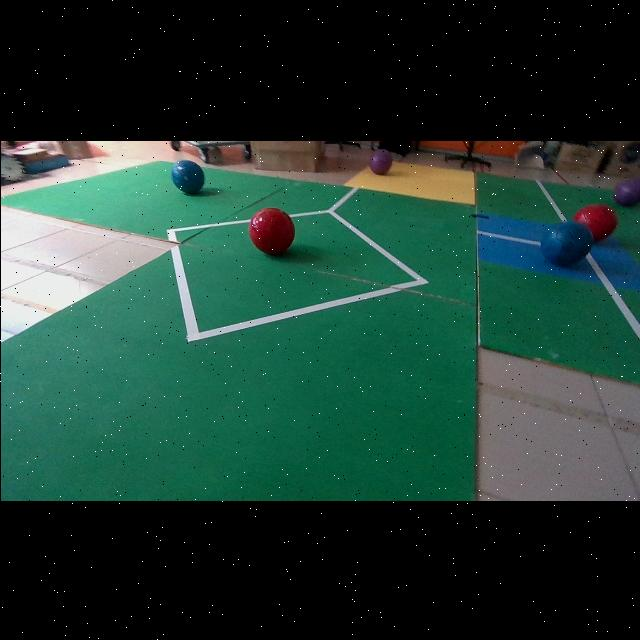B: (540, 220, 592, 265), (170, 160, 204, 194)
P: (613, 177, 640, 205), (369, 148, 392, 174)
R: (247, 207, 294, 254), (572, 203, 617, 240)
